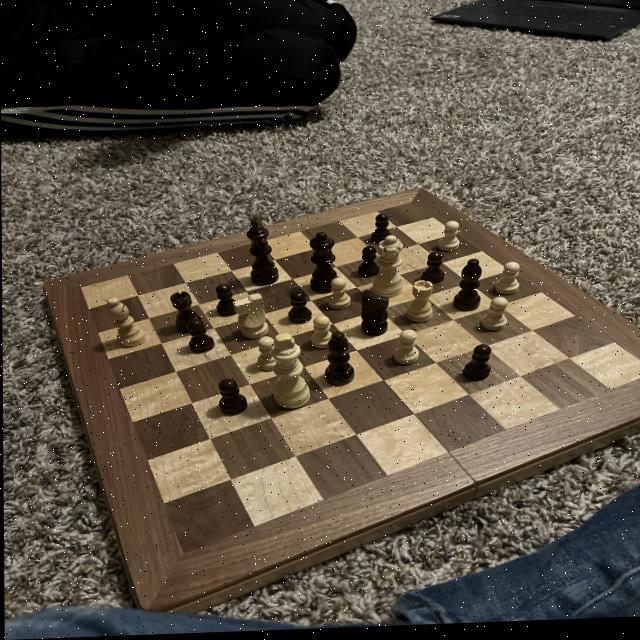bishop: (446, 261, 486, 319), (317, 332, 356, 391)
black-bishop: (241, 216, 280, 291)
black-king: (356, 292, 393, 340)
black-knight: (214, 378, 250, 419), (459, 345, 494, 385), (183, 318, 215, 358), (212, 283, 240, 322), (418, 255, 447, 290), (366, 215, 394, 248), (285, 294, 311, 329), (355, 247, 379, 281)
black-pawn: (303, 233, 342, 298)
black-queen: (167, 290, 201, 337)
black-rook: (102, 296, 147, 355)
white-bishop: (263, 334, 313, 419)
white-king: (229, 293, 273, 343)
white-knight: (248, 334, 282, 378), (477, 299, 509, 339), (390, 330, 421, 371), (432, 221, 464, 257), (305, 316, 337, 352), (492, 262, 522, 300), (321, 278, 352, 314)
white-pawn: (368, 235, 407, 305)
white-queen: (408, 282, 436, 331)
